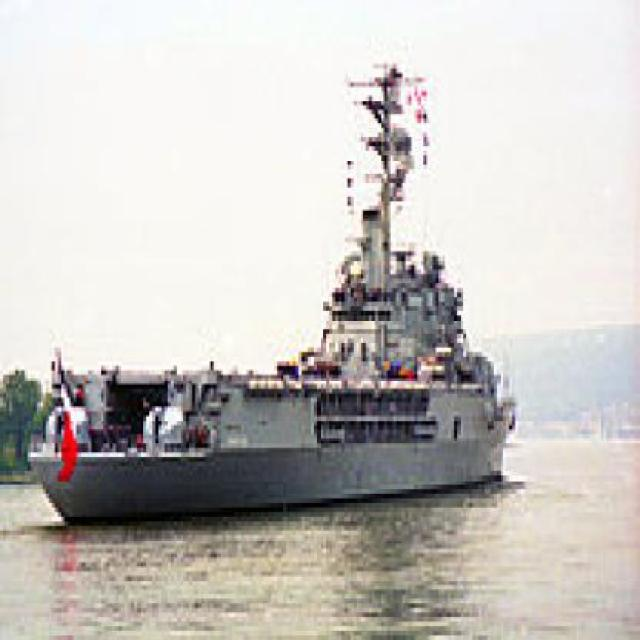warship2: (29, 51, 523, 549)
